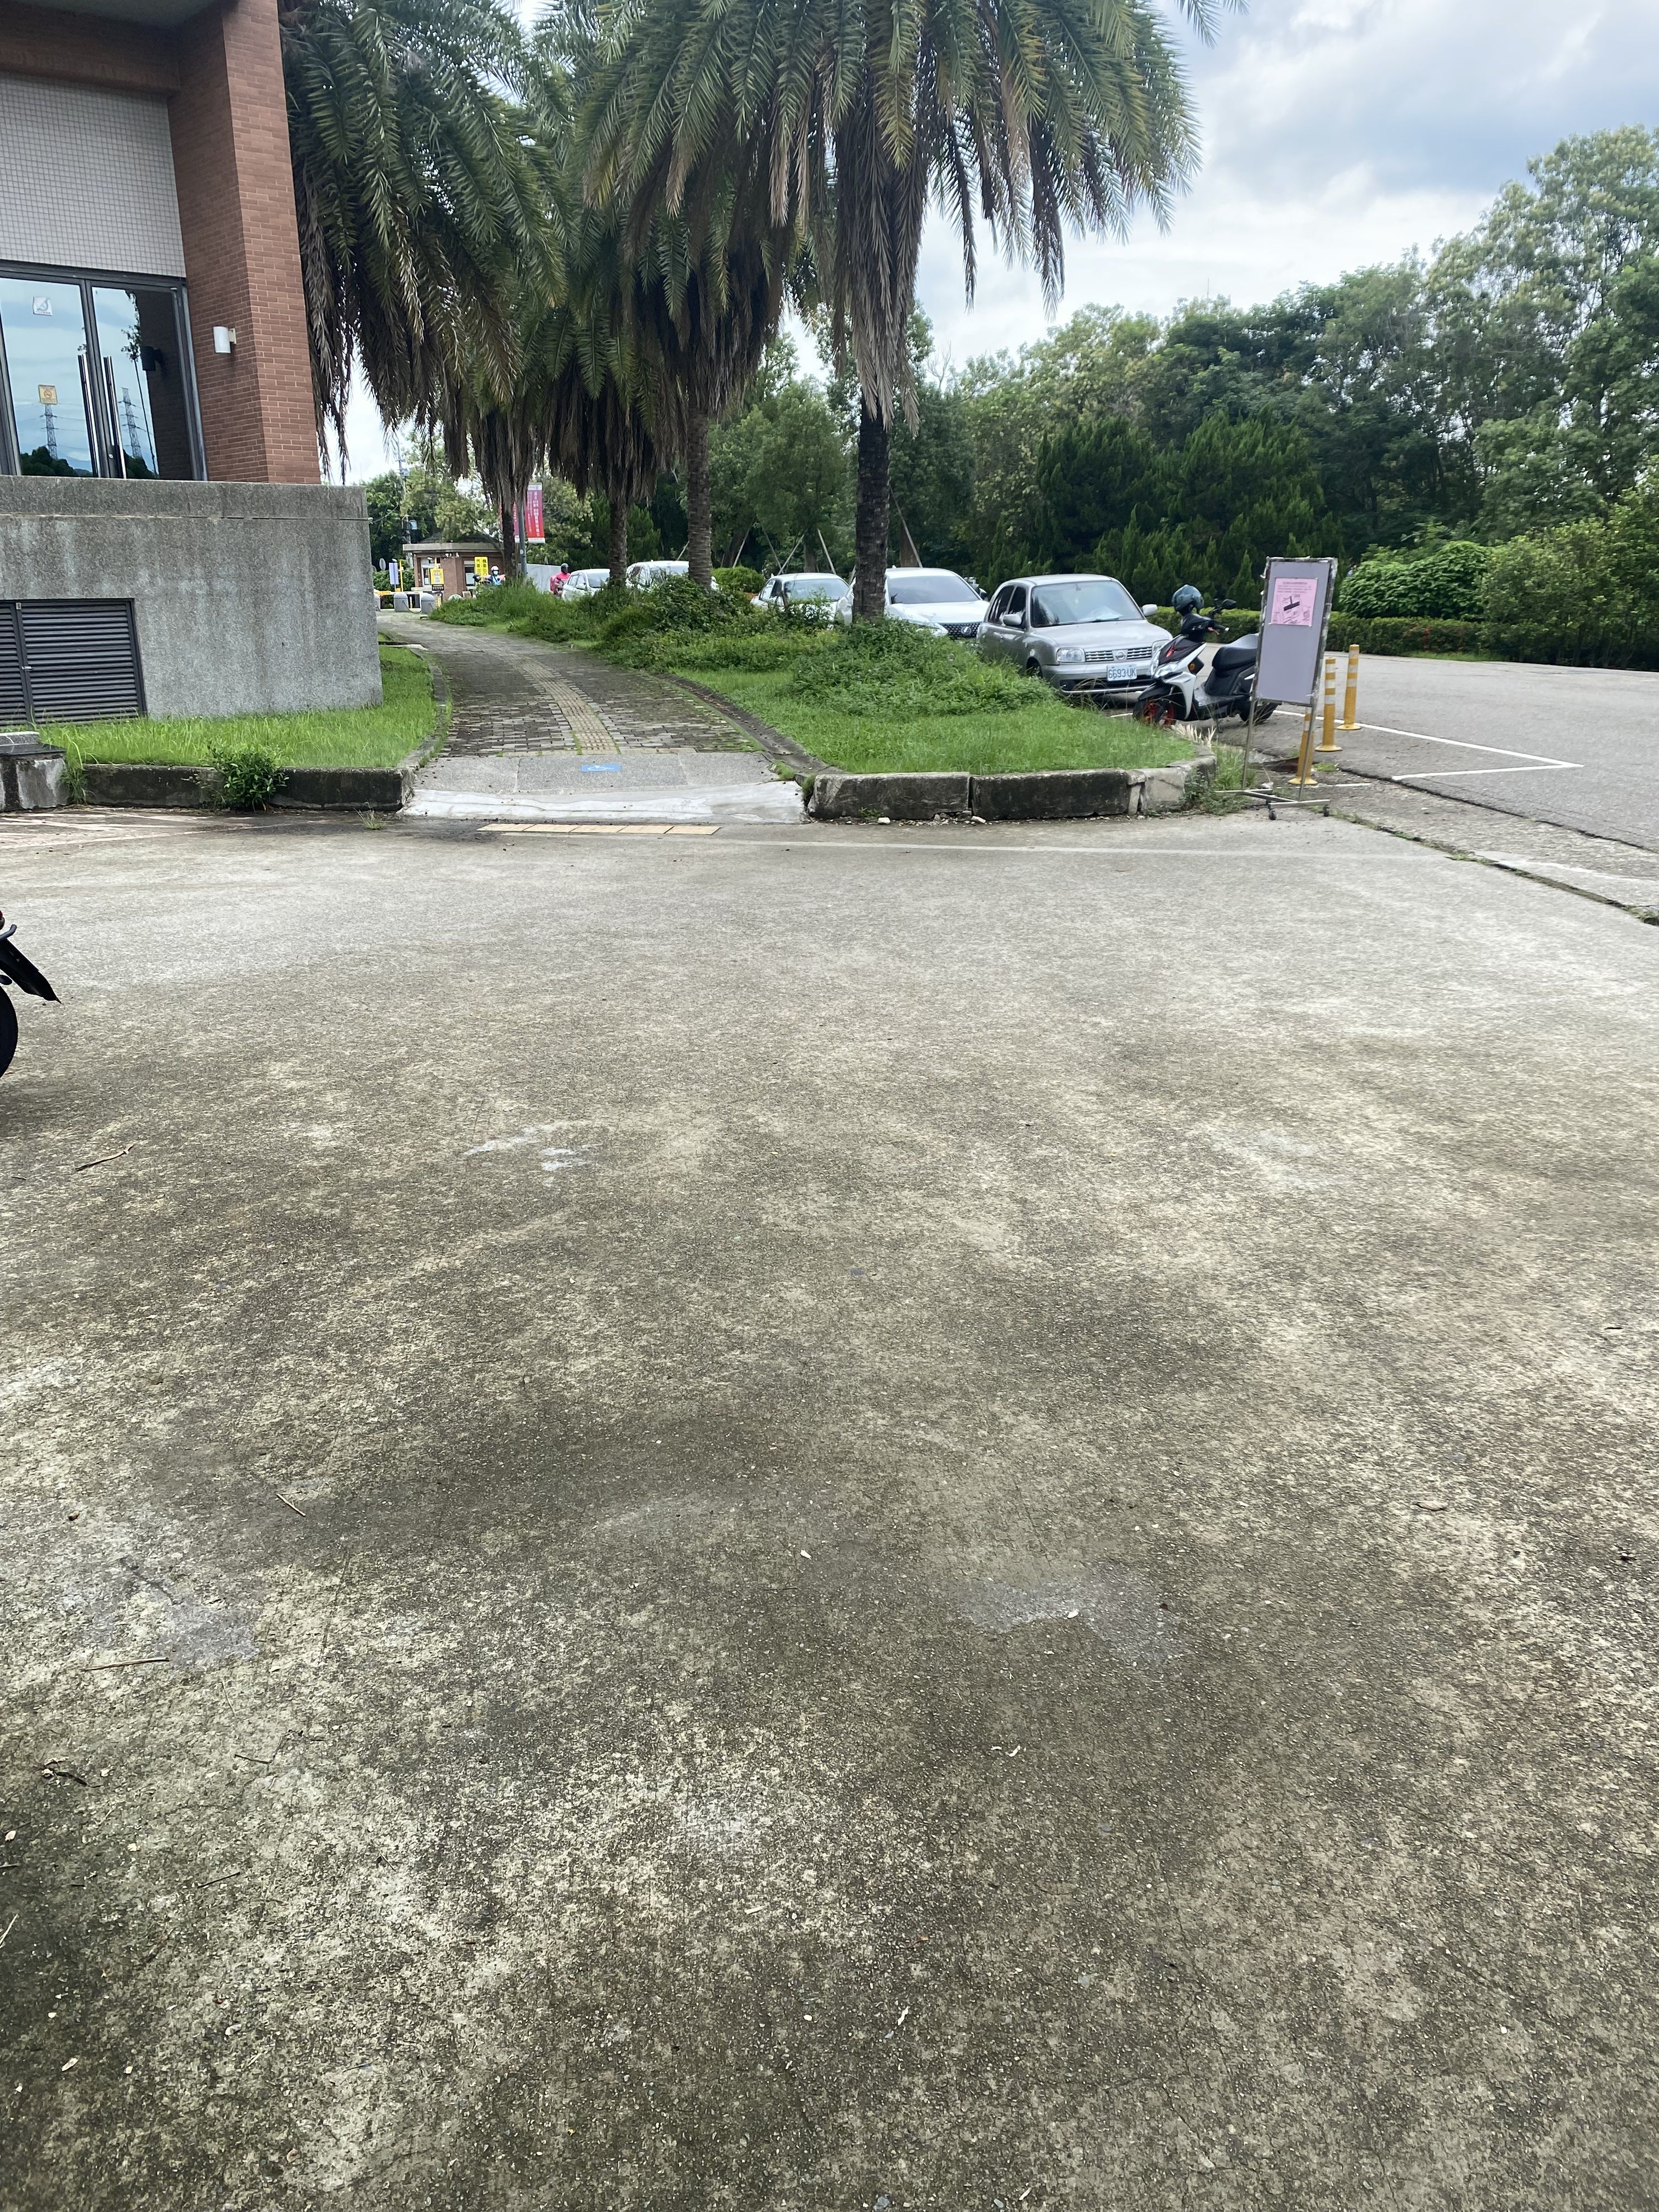sidewalk: (359, 601, 861, 881)
